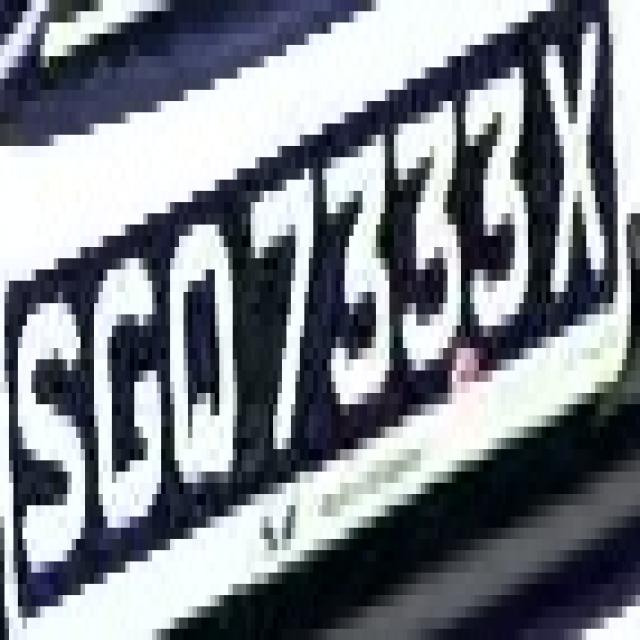3: (439, 33, 537, 370), (380, 101, 470, 427), (314, 101, 389, 438)
7: (237, 135, 322, 483)
G: (85, 213, 166, 539)
Q: (156, 214, 242, 506)
S: (9, 236, 98, 606)
X: (537, 23, 609, 314)
